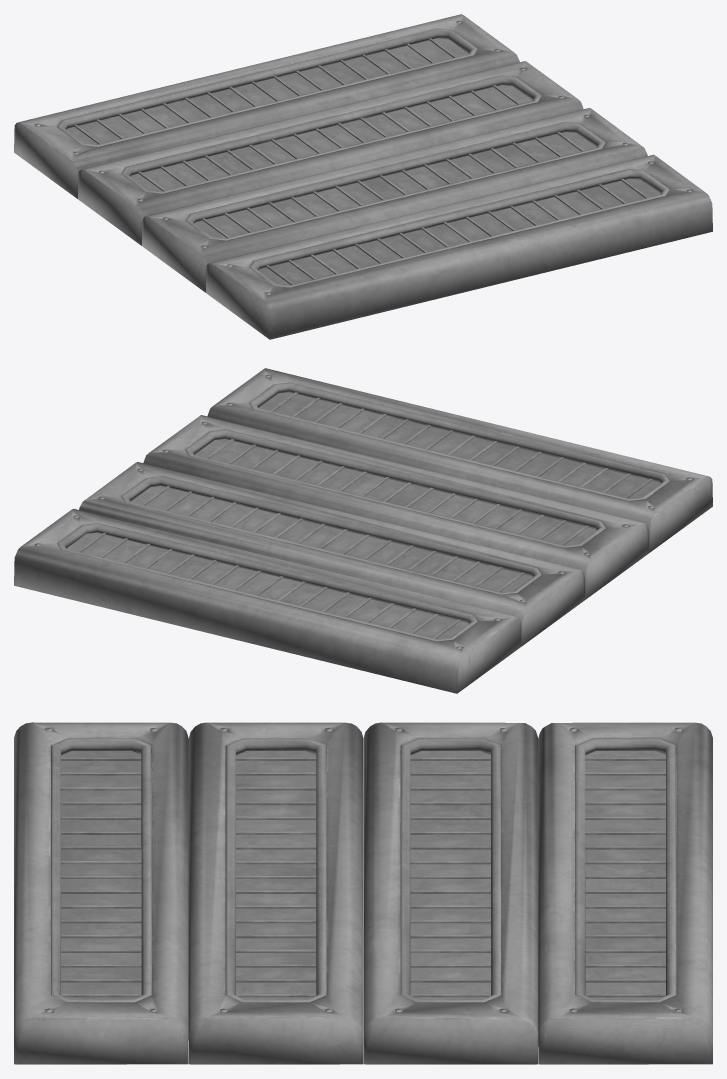
The model's file is wall_industrial_panel.glb.
3 views of the same model, one above another, from view 1: azimuth 30°, elevation 25°; view 2: azimuth 150°, elevation 25°; view 3: azimuth 270°, elevation 25° (orthographic). The views are drawn at different scales.
Parts seen in each view (by area): view 1: Sci-Fi Industrial Panel; view 2: Sci-Fi Industrial Panel; view 3: Sci-Fi Industrial Panel.
Part boxes in pixels (x1,y1,x2,y2): Sci-Fi Industrial Panel: (14, 14, 712, 339); Sci-Fi Industrial Panel: (14, 368, 712, 693); Sci-Fi Industrial Panel: (14, 722, 712, 1064).
Size of the model in its own units: 2 by 0.15 by 2.
Materials: 1 (1 with a texture image).
